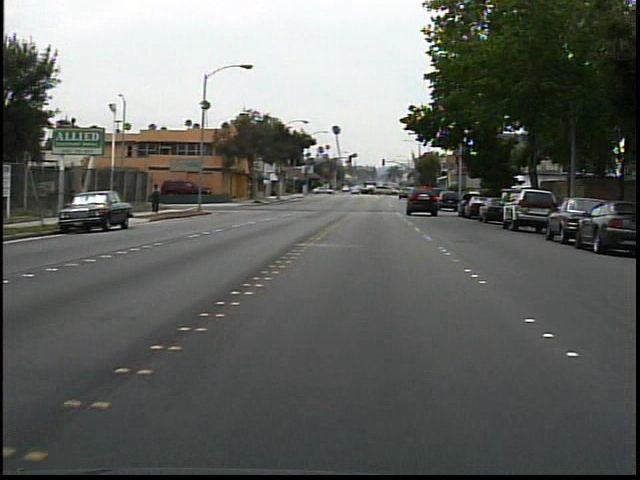person: (148, 180, 168, 219)
